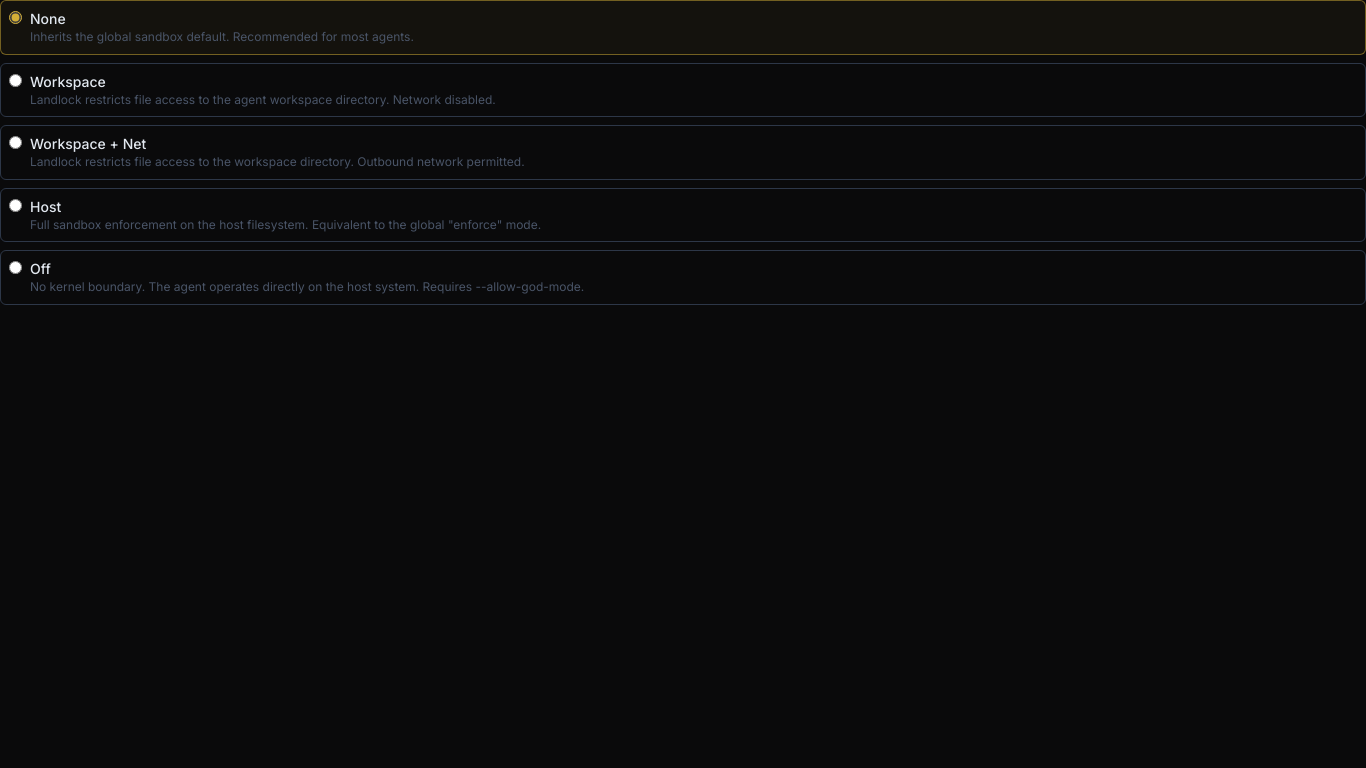
SandboxProfileSelector › selecting off opens confirmation dialog
Click the radio button with aria-label "Sandbox profile: Off". click: (16, 268)
box: [9, 261, 22, 274]
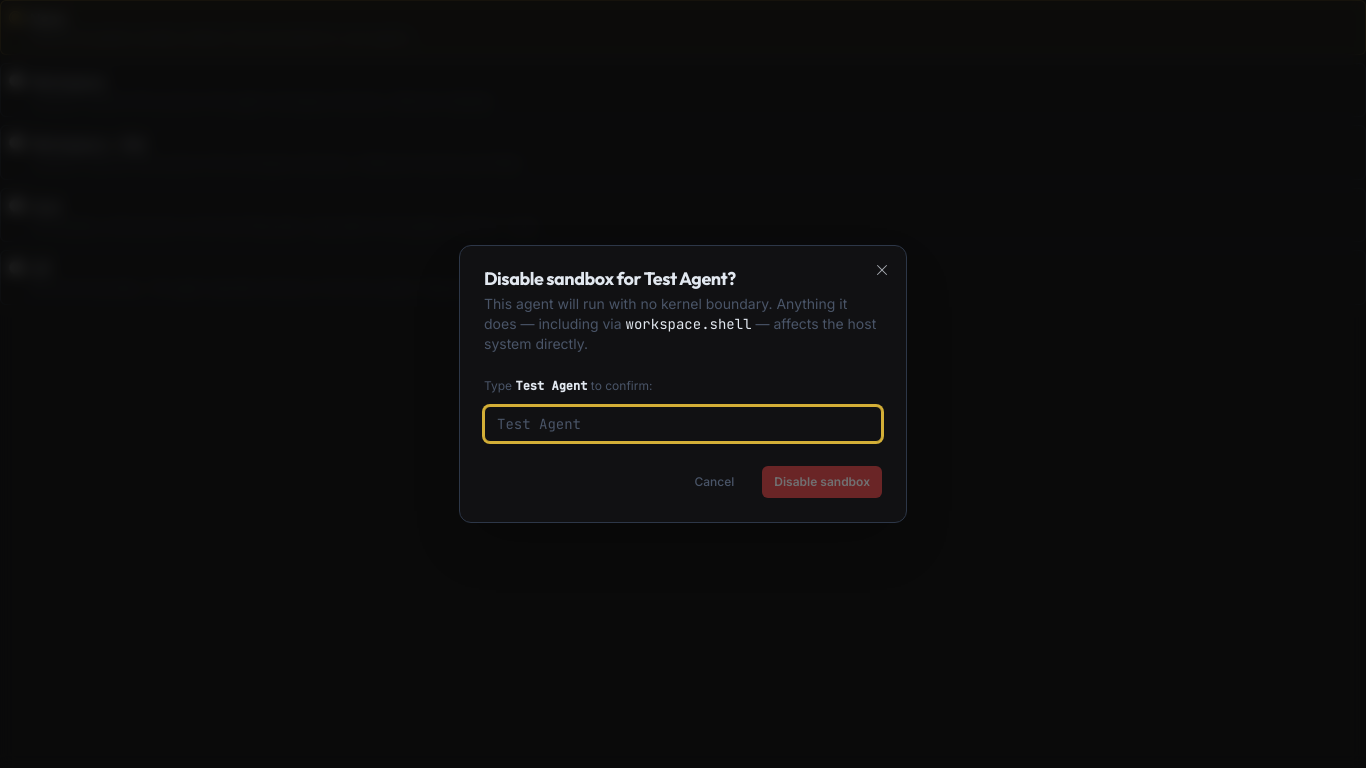
Result: the heading "Disable sandbox for Test Agent?" is shown at [484, 267, 736, 290]
